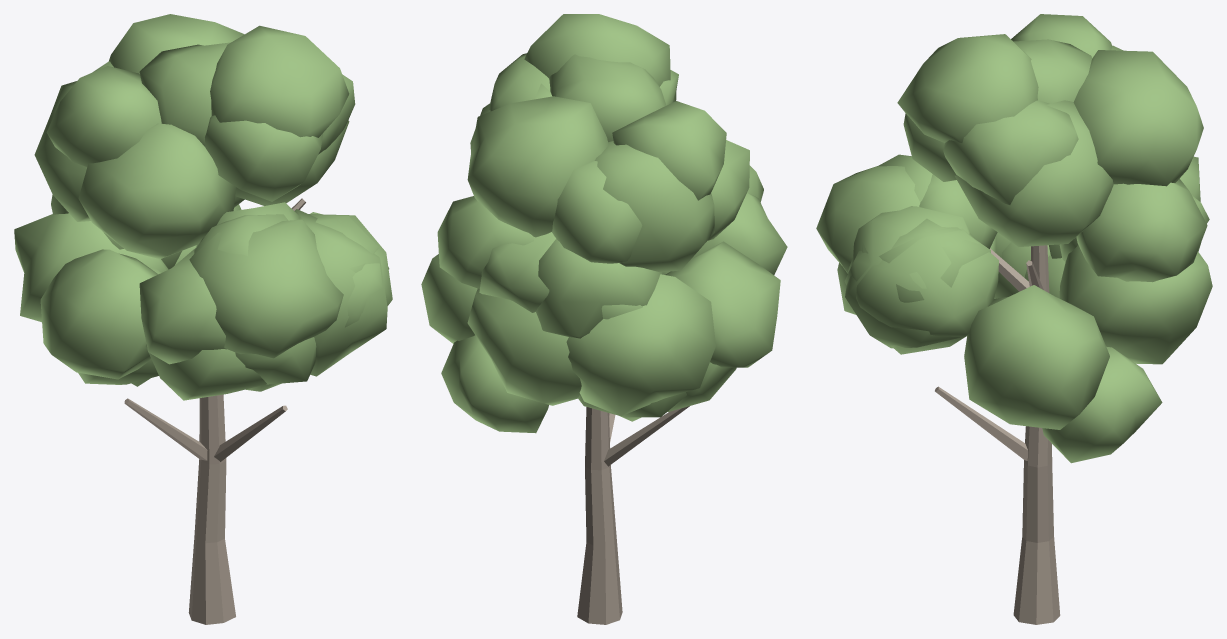
Rendered from Blender_SugarMaple_1.glb.
3 views of the same model, side by side, from view 1: azimuth 30°, elevation 25°; view 2: azimuth 150°, elevation 25°; view 3: azimuth 270°, elevation 25° (orthographic). The views are drawn at different scales.
Parts seen in each view (by area): view 1: Blender_SugarMaple_1; view 2: Blender_SugarMaple_1; view 3: Blender_SugarMaple_1.
Boxes of the visible parts, x1,y1,x2,y2 form: Blender_SugarMaple_1: (14,14,392,624); Blender_SugarMaple_1: (421,14,787,624); Blender_SugarMaple_1: (816,14,1212,624).
Size of the model in its own units: 13.31 by 22.11 by 13.41.
